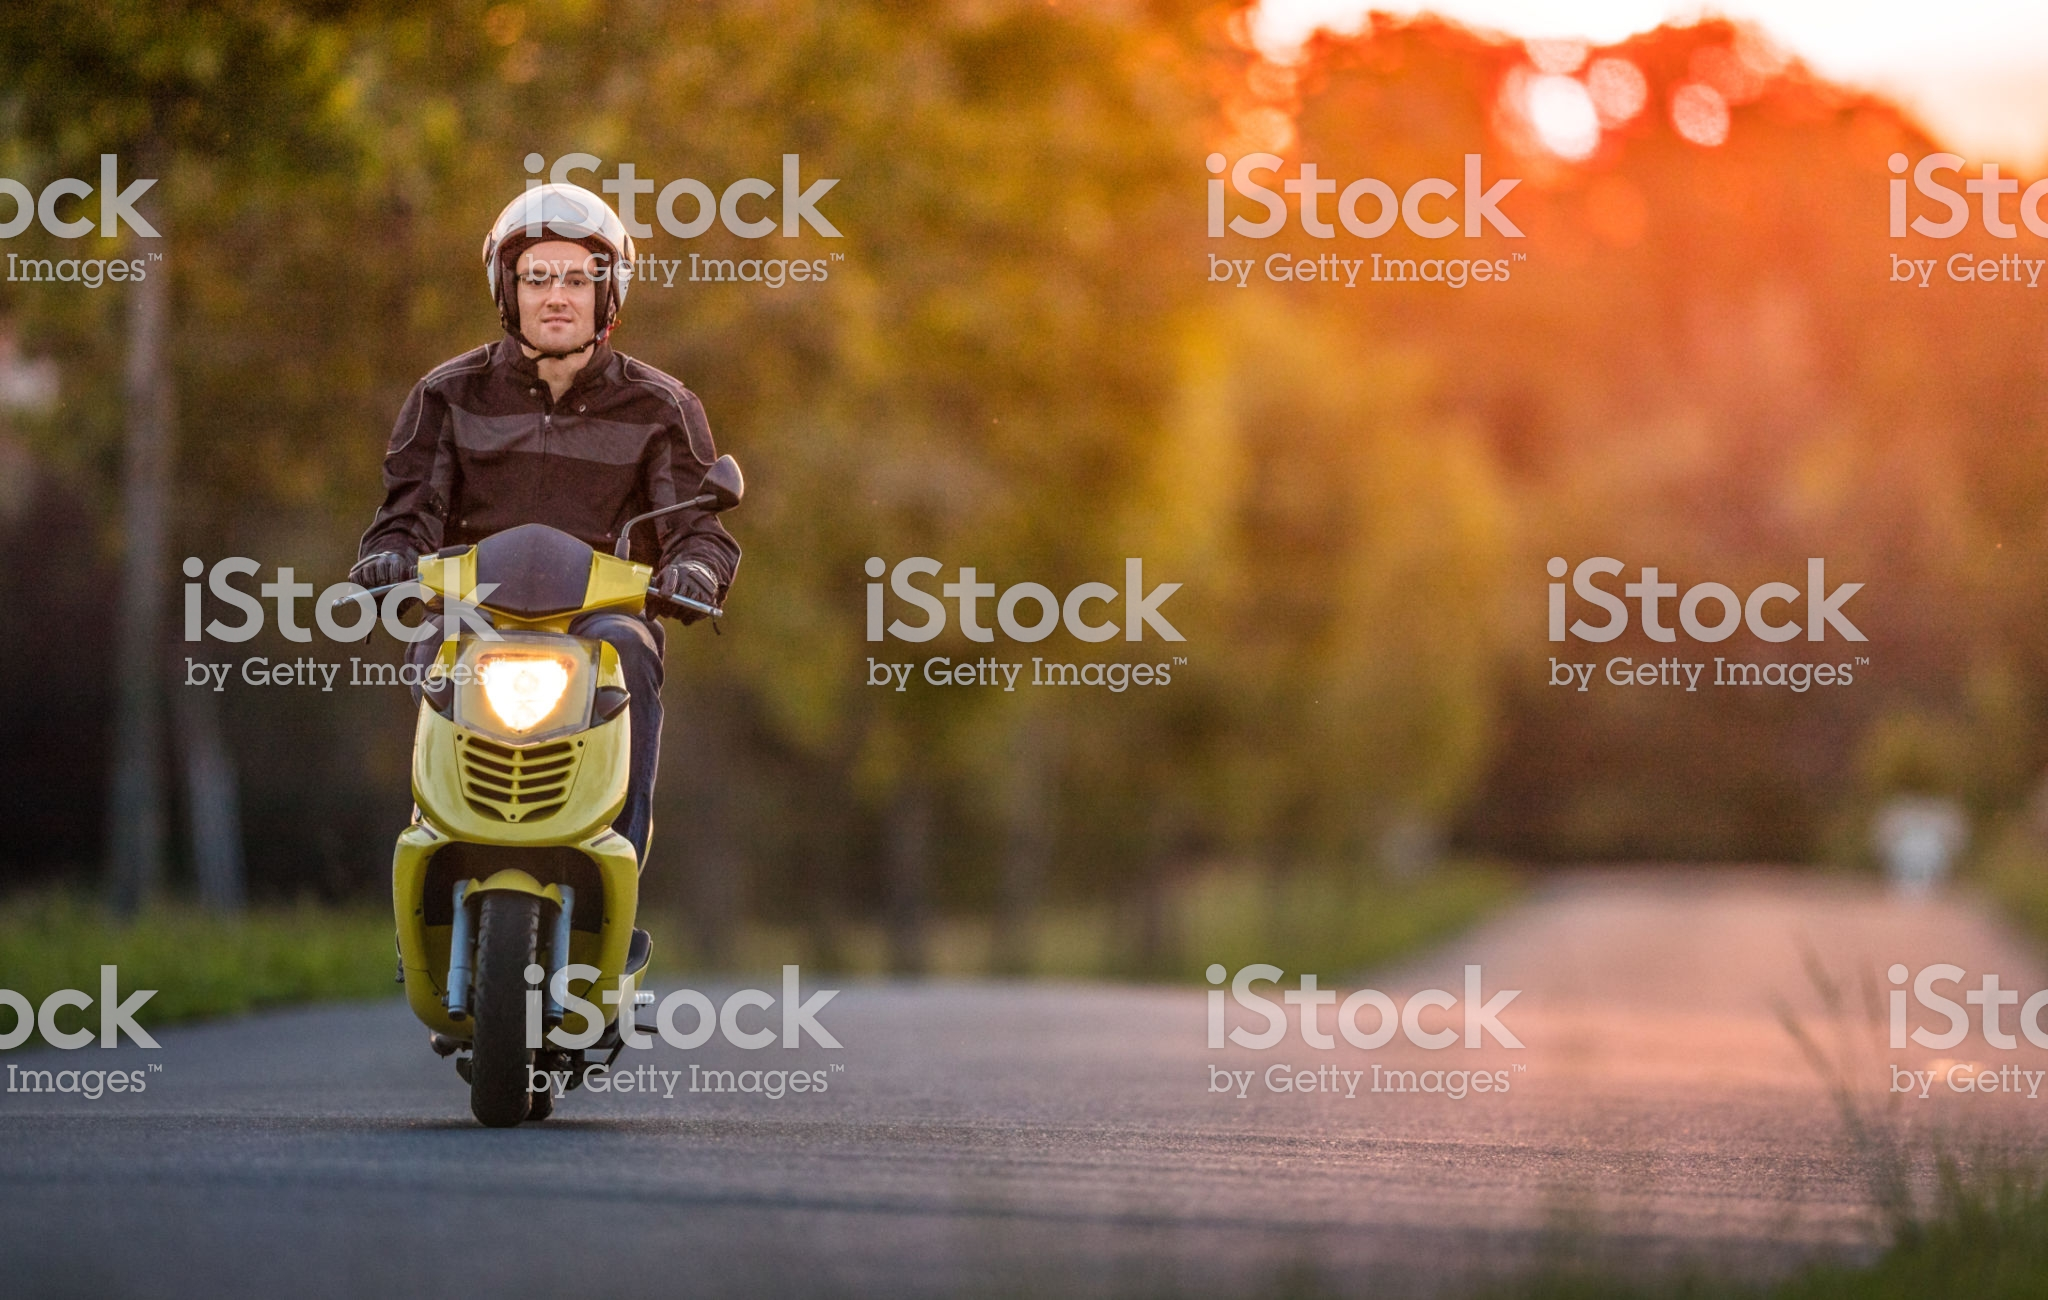helmet: (466, 193, 658, 334)
